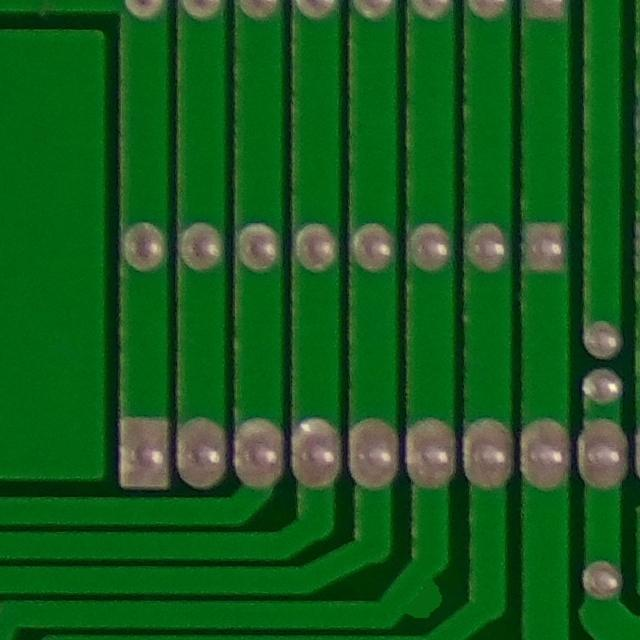spur: (382, 551, 457, 633)
